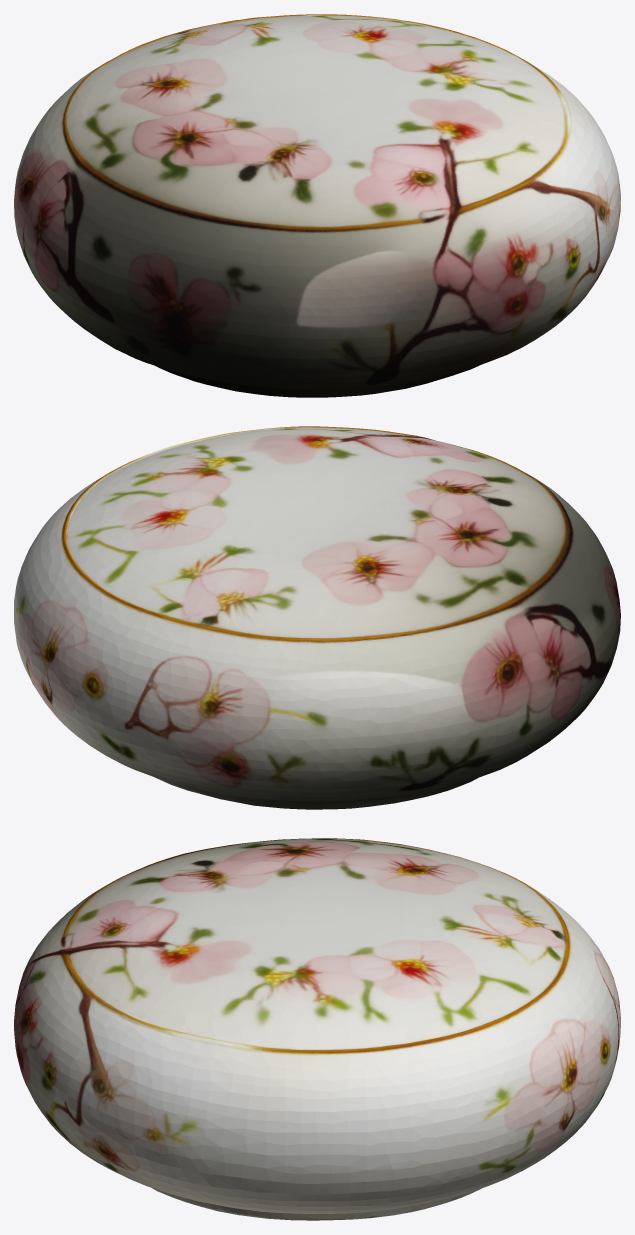
The model's file is porcelain-ring-box-japanese.jpeg.glb.
3 renders of one model, top to bottom at view 1: azimuth 30°, elevation 25°; view 2: azimuth 150°, elevation 25°; view 3: azimuth 270°, elevation 25°, orthographic.
Visible parts, largest first — view 1: world; view 2: world; view 3: world.
Boxes of the visible parts, bbox=[...] form: world: bbox=[14, 14, 620, 397]; world: bbox=[14, 426, 620, 809]; world: bbox=[14, 838, 620, 1220].
Size of the model in its own units: 0.9995 by 0.3947 by 0.9991.
1 material, 1 textured.
